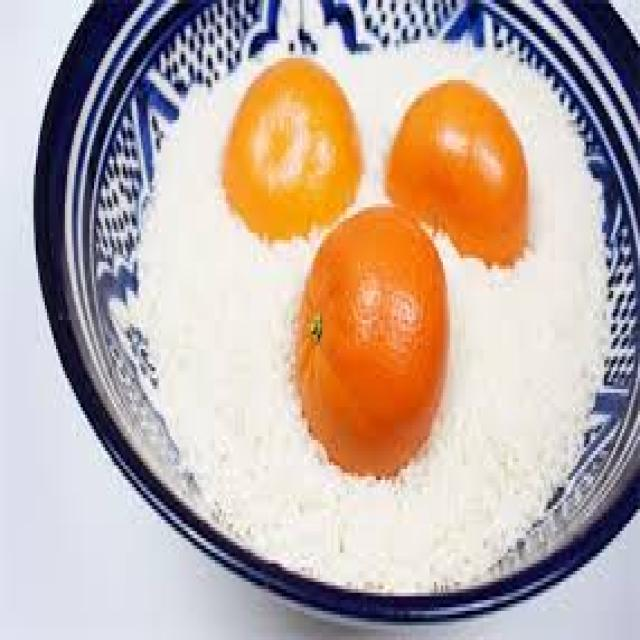Fruits: (295, 80, 526, 473), (222, 58, 360, 236)
Rice: (217, 69, 606, 589), (114, 55, 311, 509), (318, 29, 472, 207)
